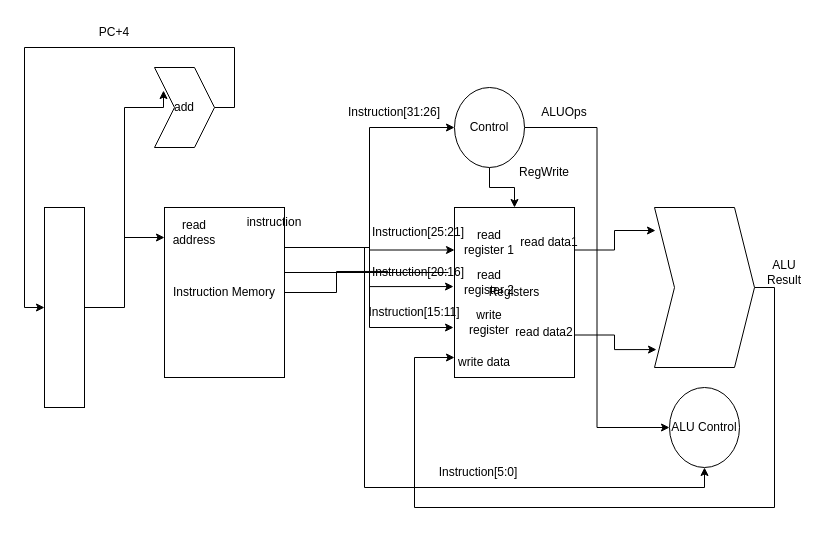
This 832x533 diagram has some shape labels left out. The shapes that lost their labels are listed below. From the top down, each one's centre as x and y in pixels, then its label:
At [64,307]: "PC".
At [704,287]: "ALU".
